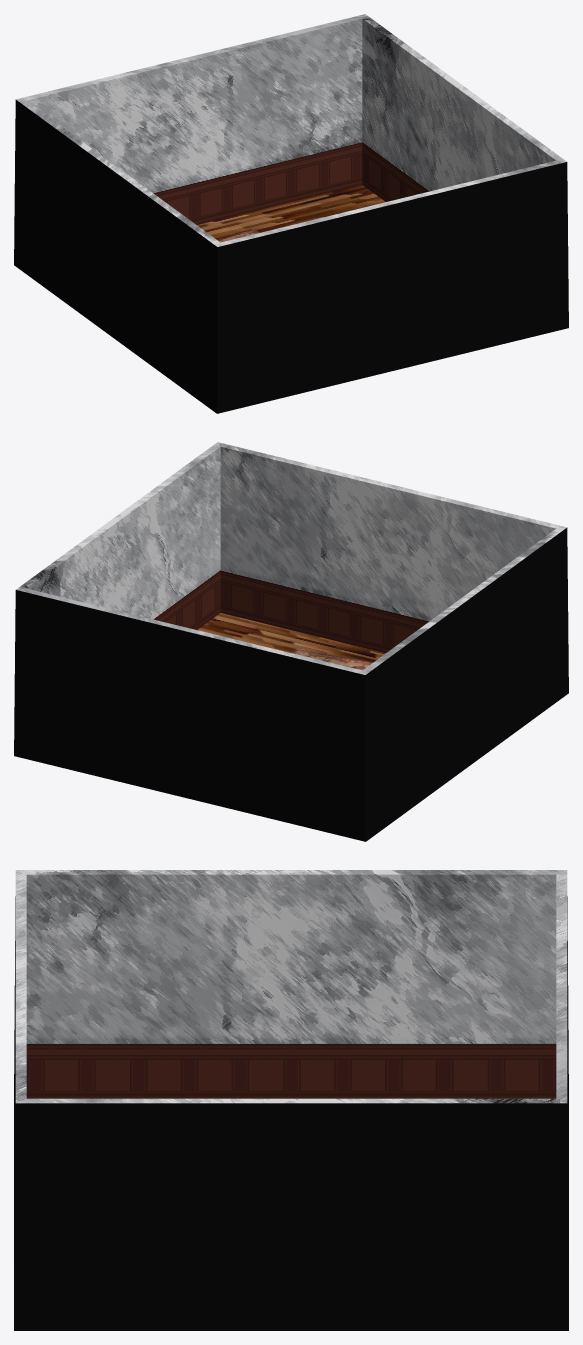
Rendered from test room.fbx.
The picture shows the model from 3 angles, top to bottom: view 1: azimuth 30°, elevation 25°; view 2: azimuth 150°, elevation 25°; view 3: azimuth 270°, elevation 25°; orthographic projection. The views are drawn at different scales.
Visible parts, largest first — view 1: test_chamber; view 2: test_chamber; view 3: test_chamber.
Boxes of the visible parts, bbox=[...] form: test_chamber: bbox=[14, 14, 568, 413]; test_chamber: bbox=[14, 442, 568, 841]; test_chamber: bbox=[14, 870, 568, 1330].
Size of the model in its own units: 20.97 by 9.46 by 20.97.
